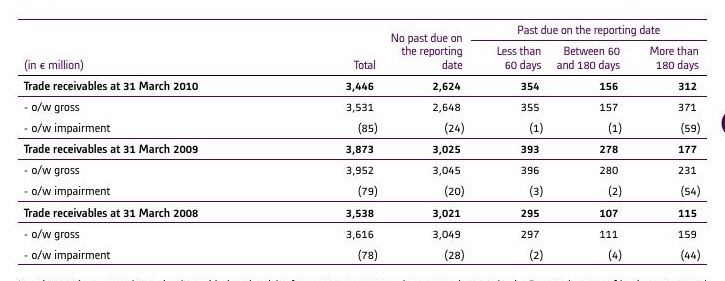table: (0, 0, 725, 281)
